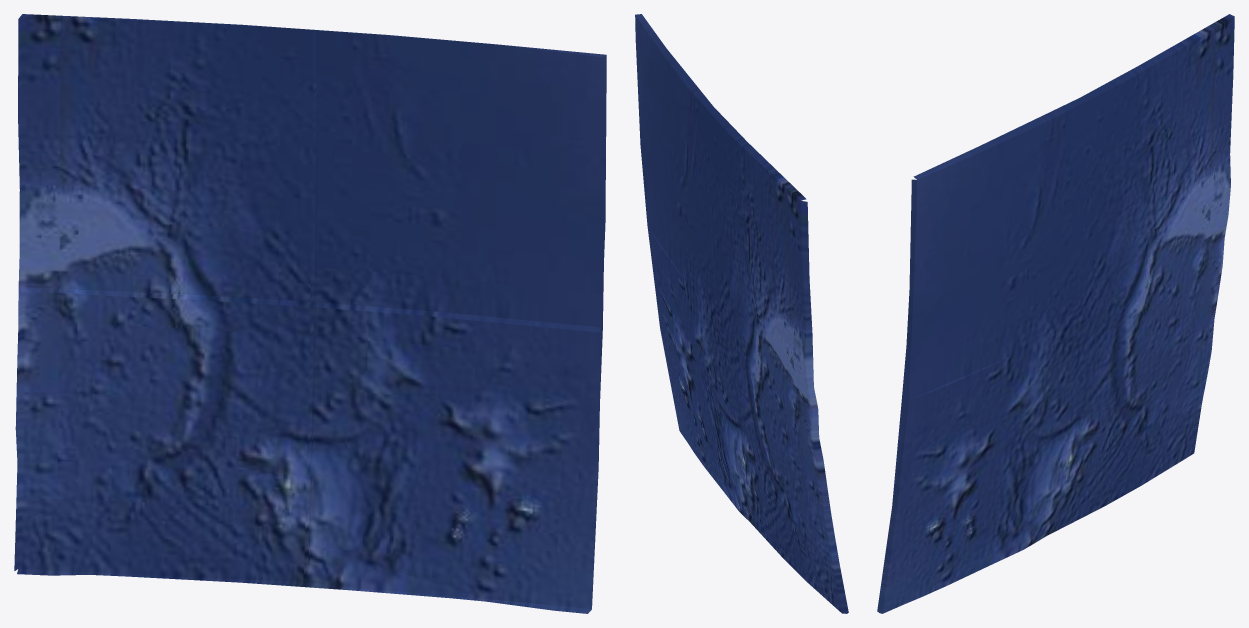
3 renders of one model, left to right at view 1: azimuth 30°, elevation 25°; view 2: azimuth 150°, elevation 25°; view 3: azimuth 270°, elevation 25°, orthographic. The views are drawn at different scales.
Bounding box in the file's own units: 1054768 × 1251696 × 897150.
Materials: 1 (1 with a texture image).
